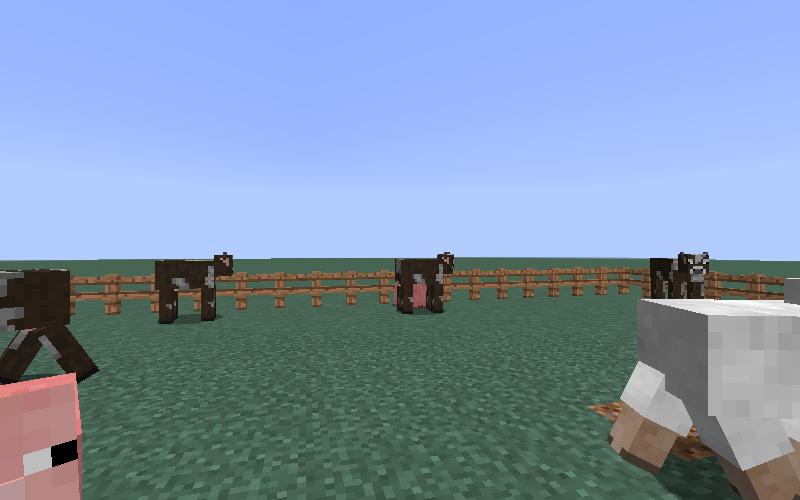cow: (1, 258, 100, 382), (149, 247, 237, 325), (391, 247, 457, 313), (650, 253, 710, 300)
sheep: (605, 292, 800, 500)
